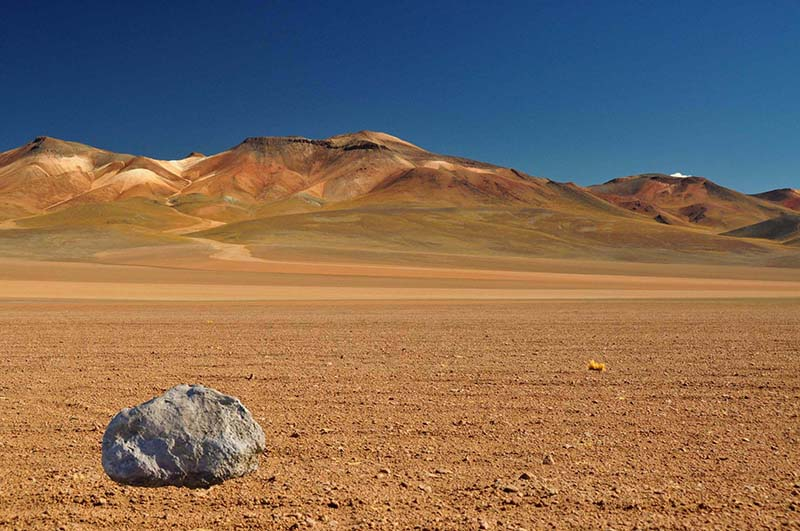Rocks: (94, 379, 268, 491)
